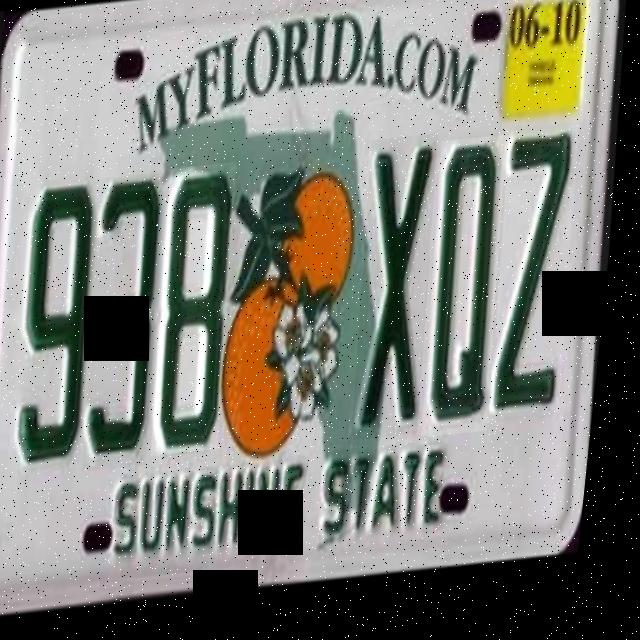3: (82, 174, 179, 474)
8: (151, 165, 250, 459)
9: (9, 174, 115, 467)
Q: (420, 142, 520, 445)
X: (351, 140, 451, 448)
Z: (489, 133, 592, 428)
